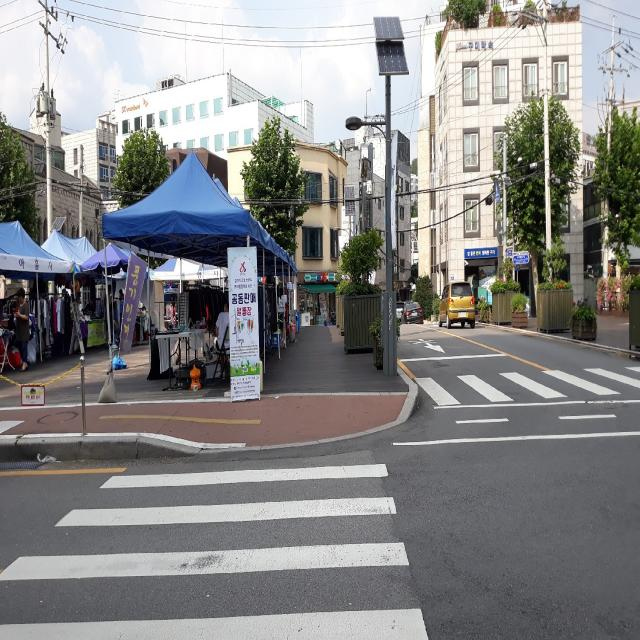횡단보도: (0, 464, 429, 640), (410, 358, 640, 426)
